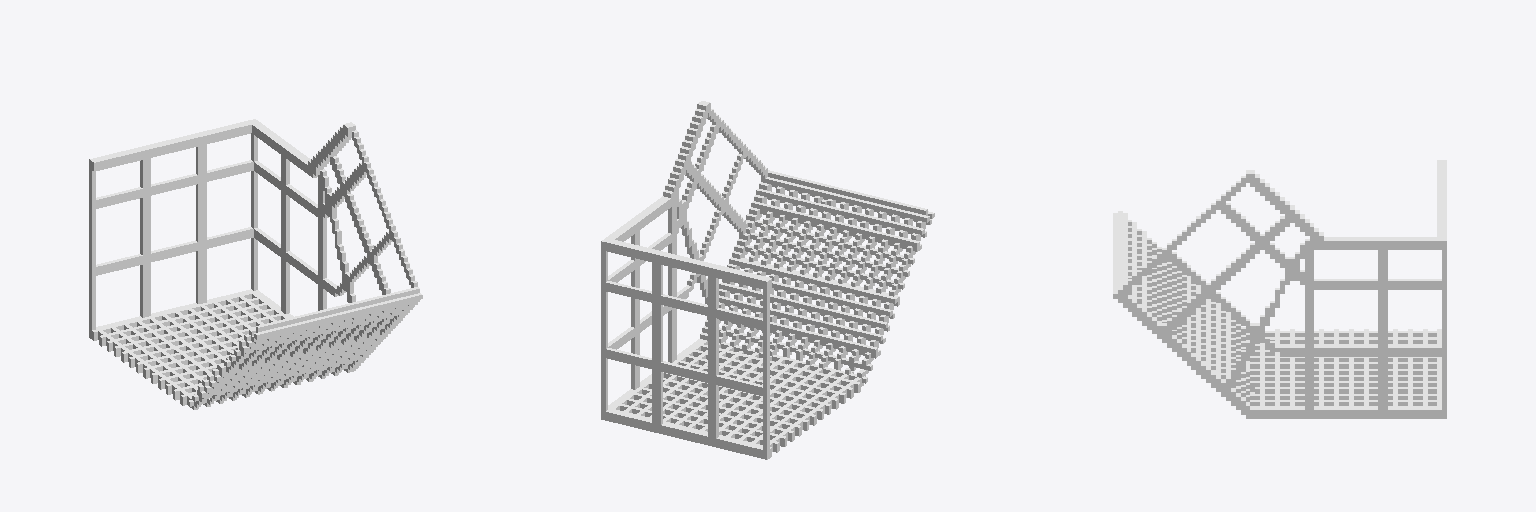
Rendered from emergency_exit_stair_up.obj.
The picture shows the model from 3 angles: view 1: azimuth 30°, elevation 25°; view 2: azimuth 150°, elevation 25°; view 3: azimuth 270°, elevation 25°; orthographic projection.
Parts seen in each view (by area): view 1: object 1; view 2: object 1; view 3: object 1.
Boxes of the visible parts, x1,y1,x2,y2 form: object 1: [89, 119, 422, 409]; object 1: [601, 101, 934, 459]; object 1: [1113, 160, 1446, 418].
Bounding box in the file's own units: 3.9 × 5.5 × 6.8.